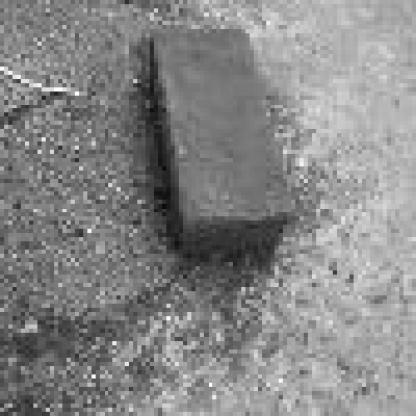brick: (149, 28, 295, 263)
